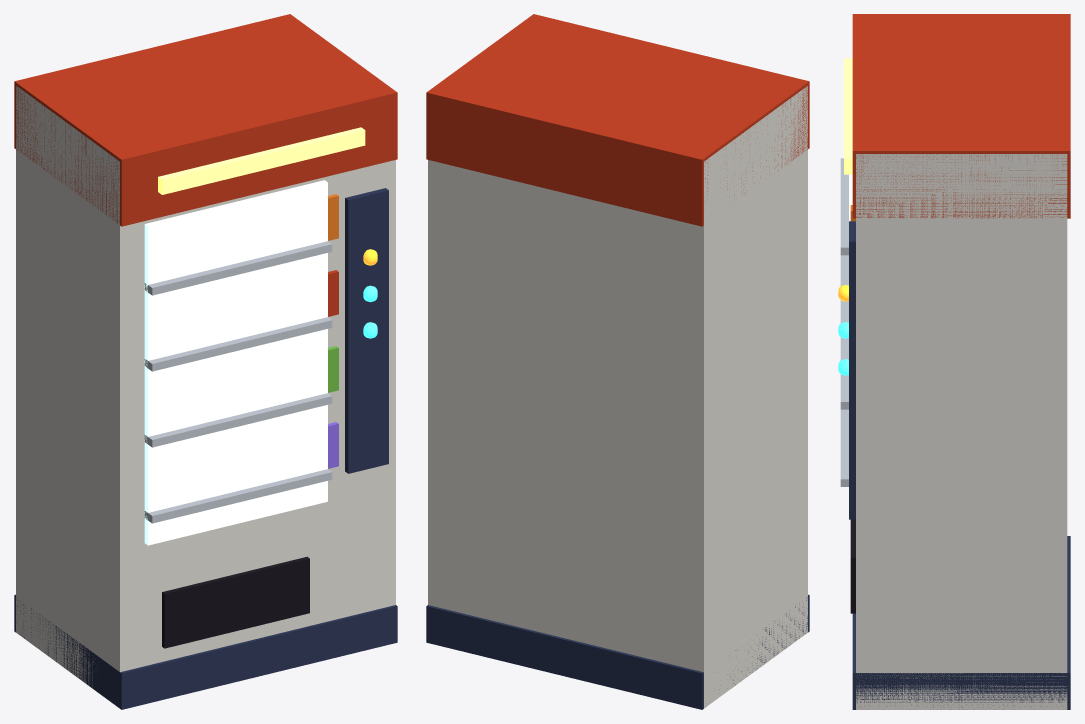
File: space_vending.glb
3 views of the same model, side by side, from view 1: azimuth 30°, elevation 25°; view 2: azimuth 150°, elevation 25°; view 3: azimuth 270°, elevation 25° (orthographic).
Bounding box in the file's own units: 0.95 × 1.81 × 0.6817.
